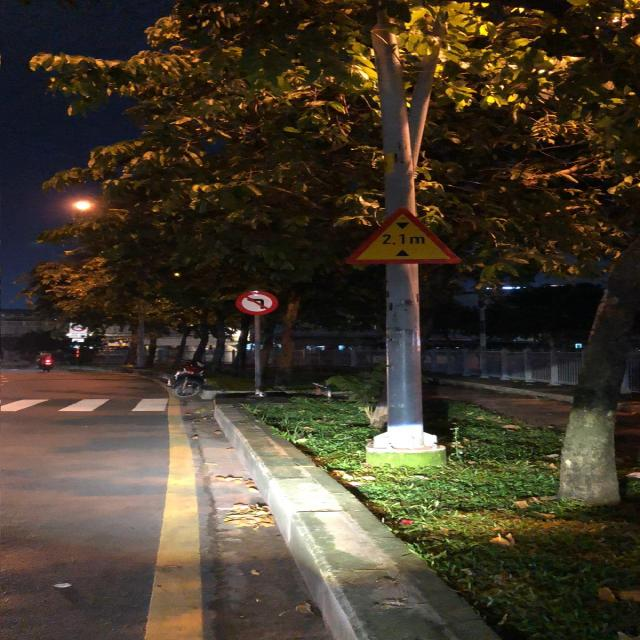Bien bao cam re trai: (230, 286, 284, 315)
Bien bao chieu cao tinh khong thuc te: (334, 203, 476, 273)
